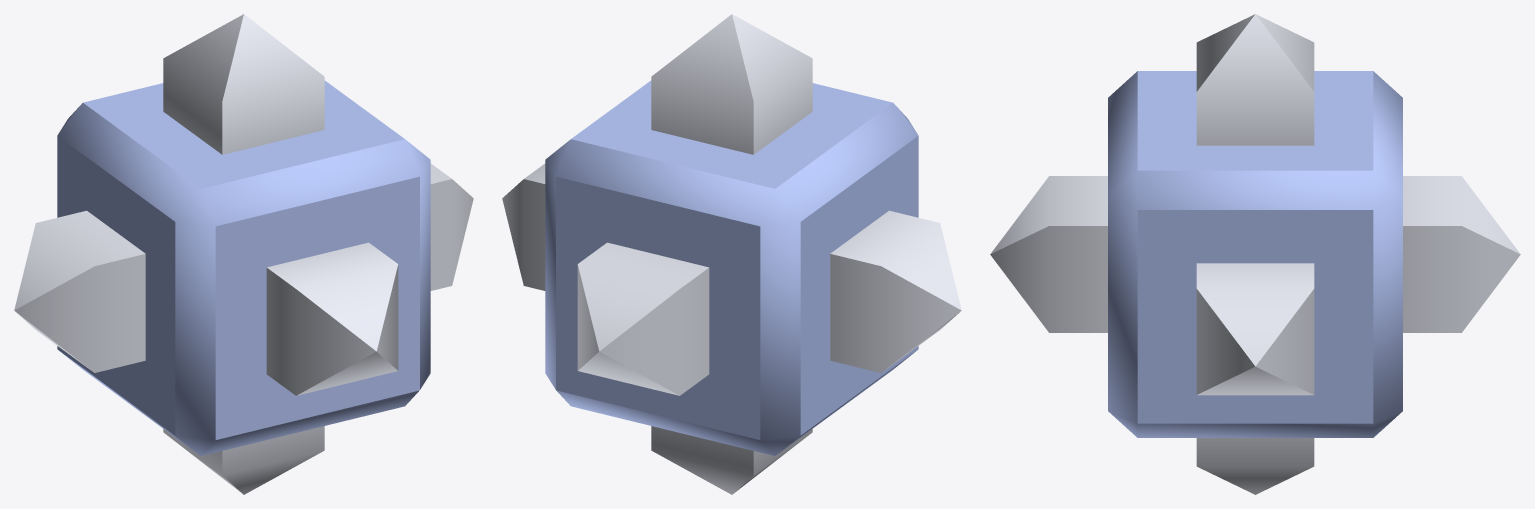
3 renders of one model, left to right at view 1: azimuth 30°, elevation 25°; view 2: azimuth 150°, elevation 25°; view 3: azimuth 270°, elevation 25°, orthographic.
Parts seen in each view (by area): view 1: spikeBlock; view 2: spikeBlock; view 3: spikeBlock.
Part boxes in pixels (x1,y1,x2,y2): spikeBlock: (14,14,473,494); spikeBlock: (502,14,961,494); spikeBlock: (990,14,1520,494).
Bounding box in the file's own units: 0.9 × 0.9 × 0.9.
